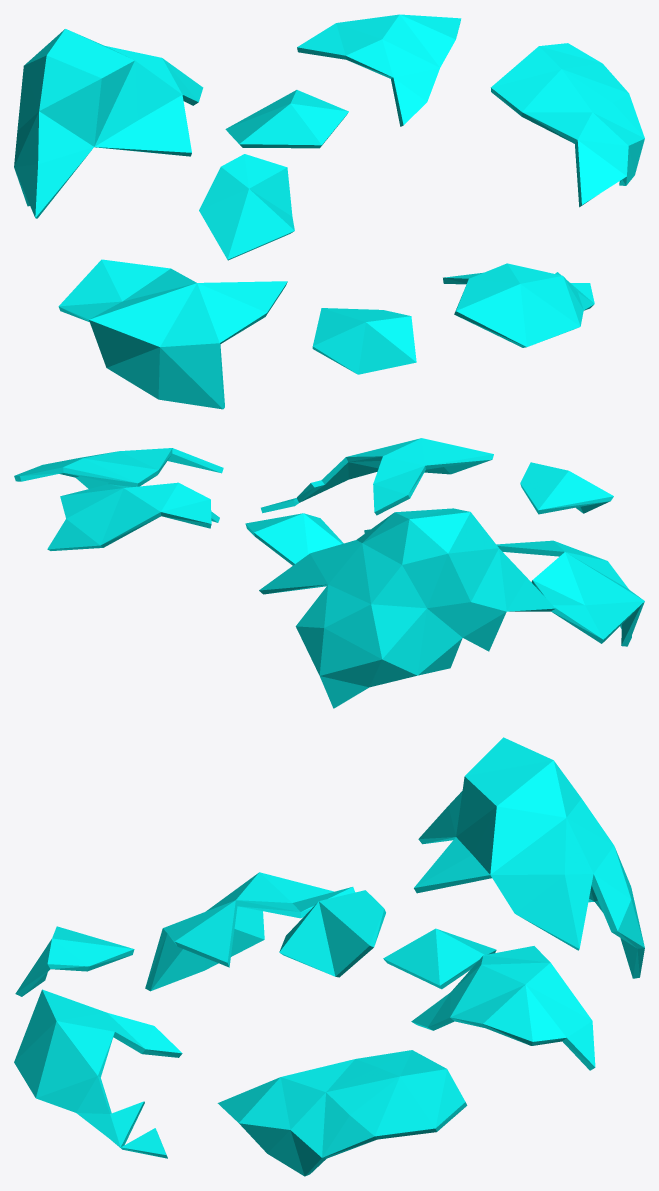
File: mountain_top.obj
The picture shows the model from 3 angles, top to bottom: view 1: azimuth 30°, elevation 25°; view 2: azimuth 150°, elevation 25°; view 3: azimuth 270°, elevation 25°; orthographic projection. The views are drawn at different scales.
Parts seen in each view (by area): view 1: Sphere.002_Sphere.003, Sphere.001_Sphere.002; view 2: Sphere.001_Sphere.002, Sphere.002_Sphere.003; view 3: Sphere.002_Sphere.003, Sphere.001_Sphere.002.
Part boxes in pixels (box(x1,y1,x2,y2)): Sphere.002_Sphere.003: box(58, 14, 644, 409); Sphere.001_Sphere.002: box(14, 29, 203, 218); Sphere.001_Sphere.002: box(259, 508, 555, 708); Sphere.002_Sphere.003: box(14, 438, 644, 646); Sphere.002_Sphere.003: box(14, 872, 595, 1176); Sphere.001_Sphere.002: box(414, 737, 644, 978).
Size of the model in its own units: 2.93 by 1.09 by 2.52.
